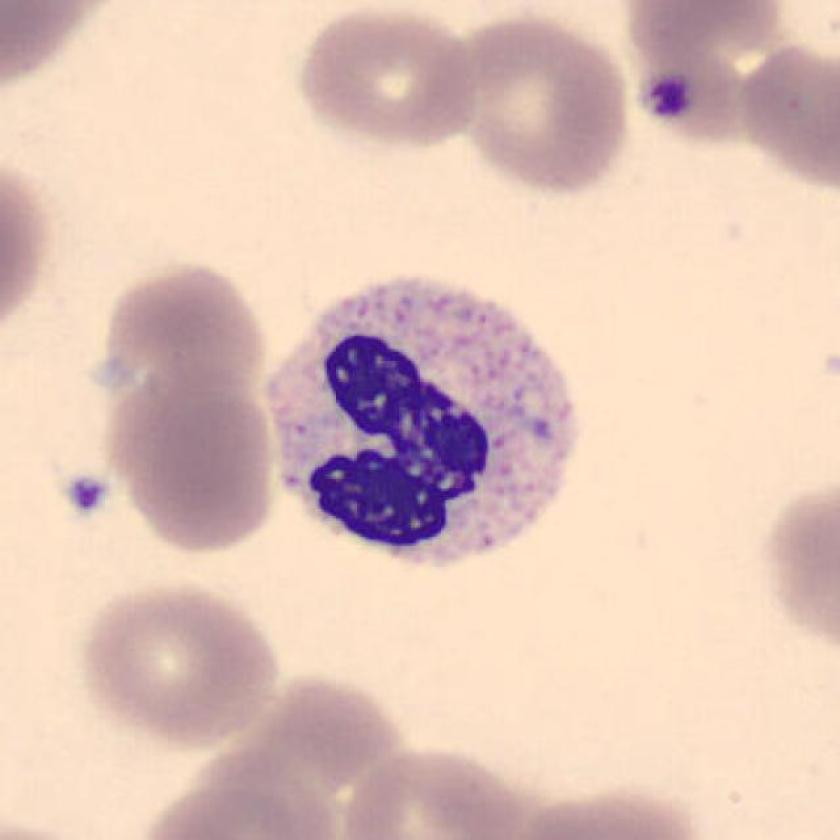neutrophil: (270, 279, 579, 568)
